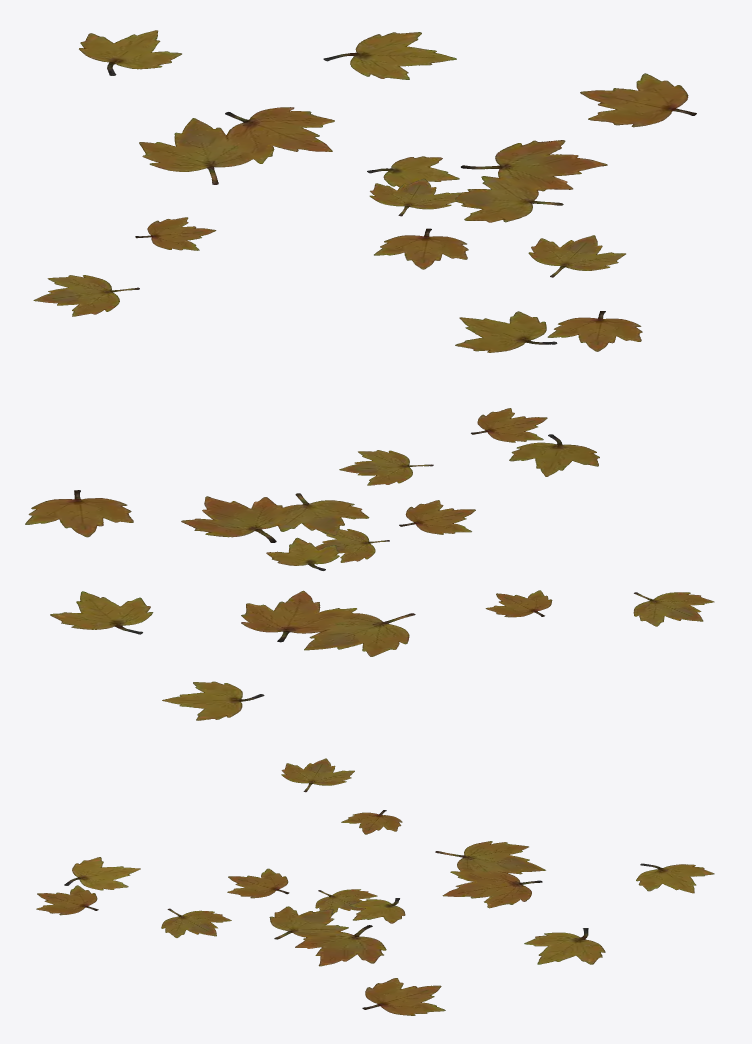
3 renders of one model, top to bottom at view 1: azimuth 30°, elevation 25°; view 2: azimuth 150°, elevation 25°; view 3: azimuth 270°, elevation 25°, orthographic. The views are drawn at different scales.
Visible parts, largest first — view 1: SM_ScatteredLeaves_Maple_07_Red_LOD0; view 2: SM_ScatteredLeaves_Maple_07_Red_LOD0; view 3: SM_ScatteredLeaves_Maple_07_Red_LOD0.
Part boxes in pixels (bbox=[...]): SM_ScatteredLeaves_Maple_07_Red_LOD0: bbox=[33, 30, 696, 352]; SM_ScatteredLeaves_Maple_07_Red_LOD0: bbox=[25, 408, 714, 720]; SM_ScatteredLeaves_Maple_07_Red_LOD0: bbox=[36, 758, 714, 1015].
Bounding box in the file's own units: 1.82 × 0 × 2.01.
Materials: 1 (1 with a texture image).
